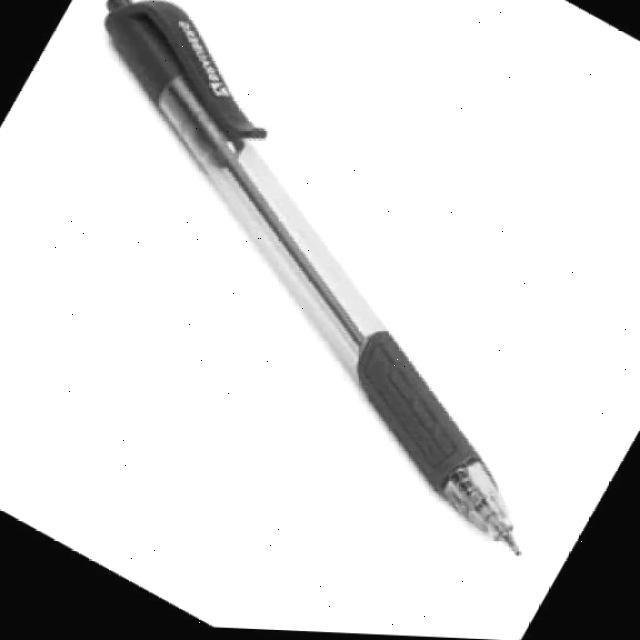pencil: (99, 0, 534, 576)
